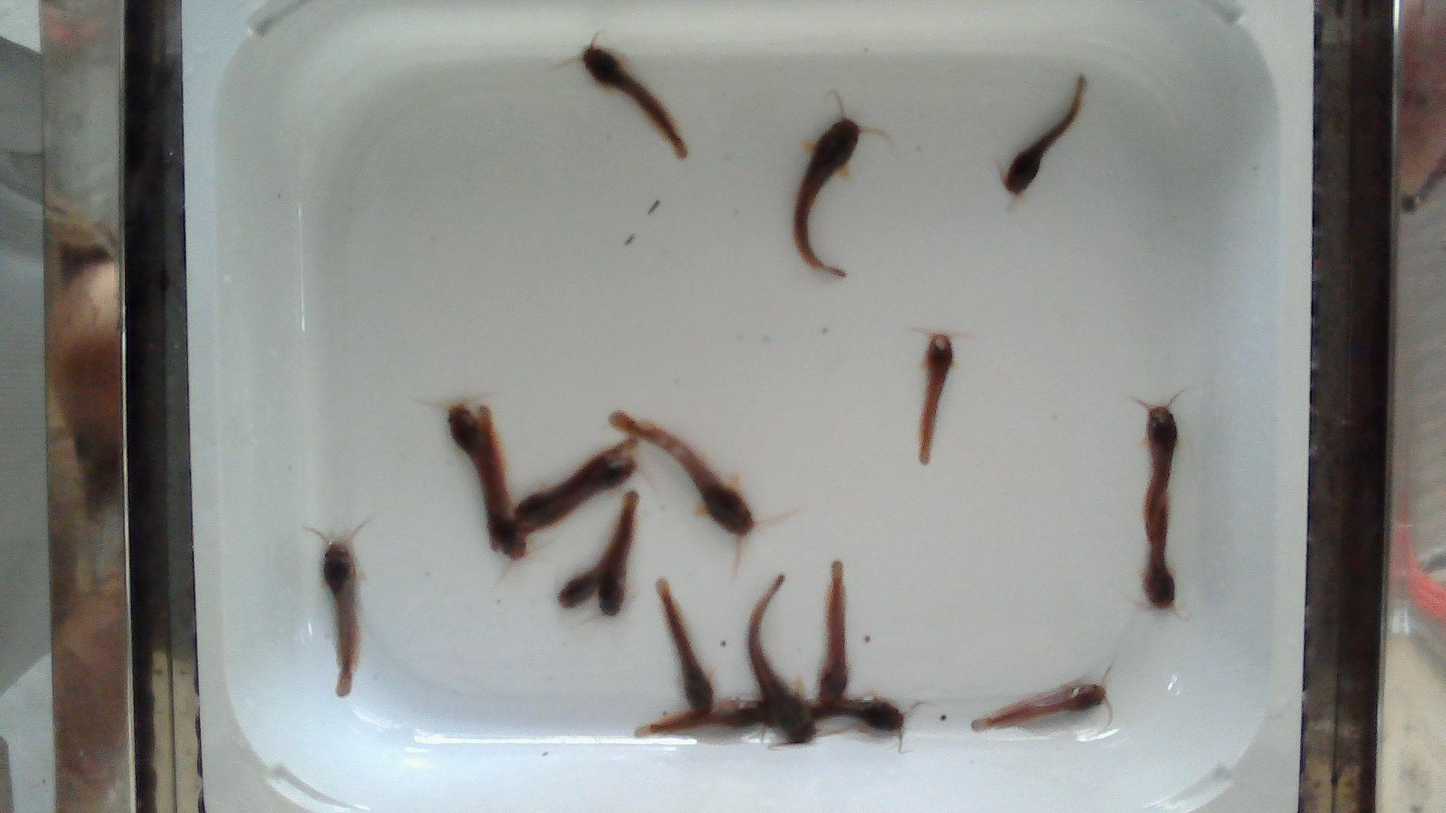lele: (611, 411, 754, 536), (583, 43, 686, 159), (793, 113, 863, 276), (748, 574, 815, 741), (1002, 76, 1085, 195), (558, 492, 639, 608), (517, 439, 627, 524), (518, 457, 637, 531), (657, 583, 716, 715), (478, 407, 525, 558), (319, 532, 359, 696), (972, 681, 1105, 730), (445, 406, 489, 512), (1145, 404, 1179, 539), (817, 561, 848, 709), (919, 333, 953, 464), (640, 700, 763, 734), (1143, 494, 1175, 609), (814, 695, 907, 733), (597, 517, 631, 616)
